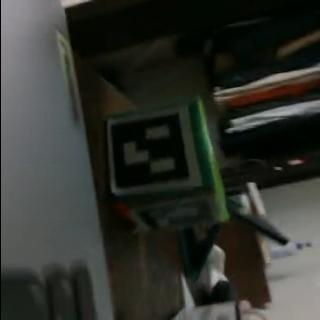armor: (108, 104, 204, 194)
robot: (102, 98, 228, 232)
